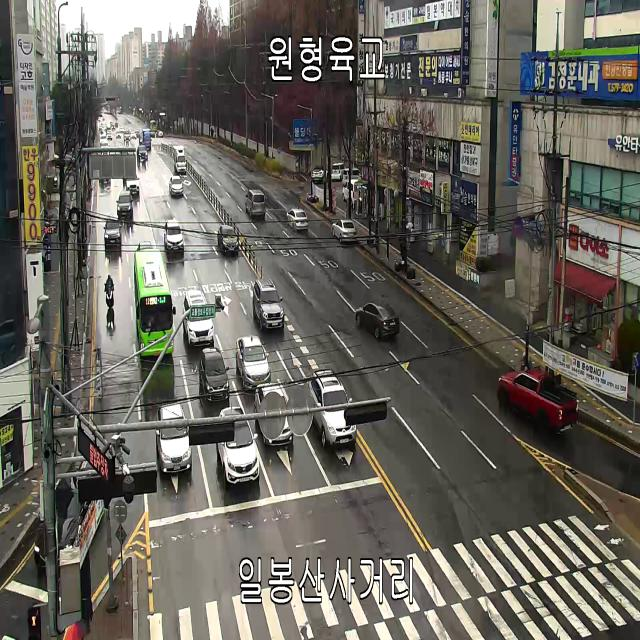Bus: (150, 120, 157, 132)
Car: (498, 368, 578, 435), (134, 248, 174, 356), (307, 369, 357, 446), (216, 407, 260, 485), (254, 382, 294, 446), (156, 403, 192, 473), (236, 336, 271, 390), (183, 290, 214, 348), (199, 348, 230, 402), (356, 301, 400, 339), (253, 278, 284, 331), (164, 220, 184, 252), (217, 224, 239, 253), (331, 218, 357, 242), (103, 214, 122, 246), (246, 189, 266, 219), (342, 179, 362, 206), (286, 208, 308, 231), (116, 191, 134, 219), (342, 169, 362, 186), (169, 176, 184, 195), (126, 174, 139, 194), (332, 162, 344, 182), (142, 128, 152, 152), (313, 167, 328, 179), (137, 146, 147, 160), (138, 241, 152, 249), (99, 178, 111, 186), (100, 140, 110, 148), (124, 130, 130, 142), (100, 136, 107, 145), (156, 130, 163, 138), (106, 124, 111, 134), (106, 132, 112, 140), (130, 132, 136, 139), (139, 135, 143, 145), (136, 130, 140, 138), (116, 132, 121, 138), (151, 130, 155, 137), (120, 127, 124, 133), (112, 125, 115, 131), (115, 123, 118, 128), (110, 120, 112, 126)
Motorcycle: (102, 272, 117, 321)
Truck: (173, 145, 187, 174)
